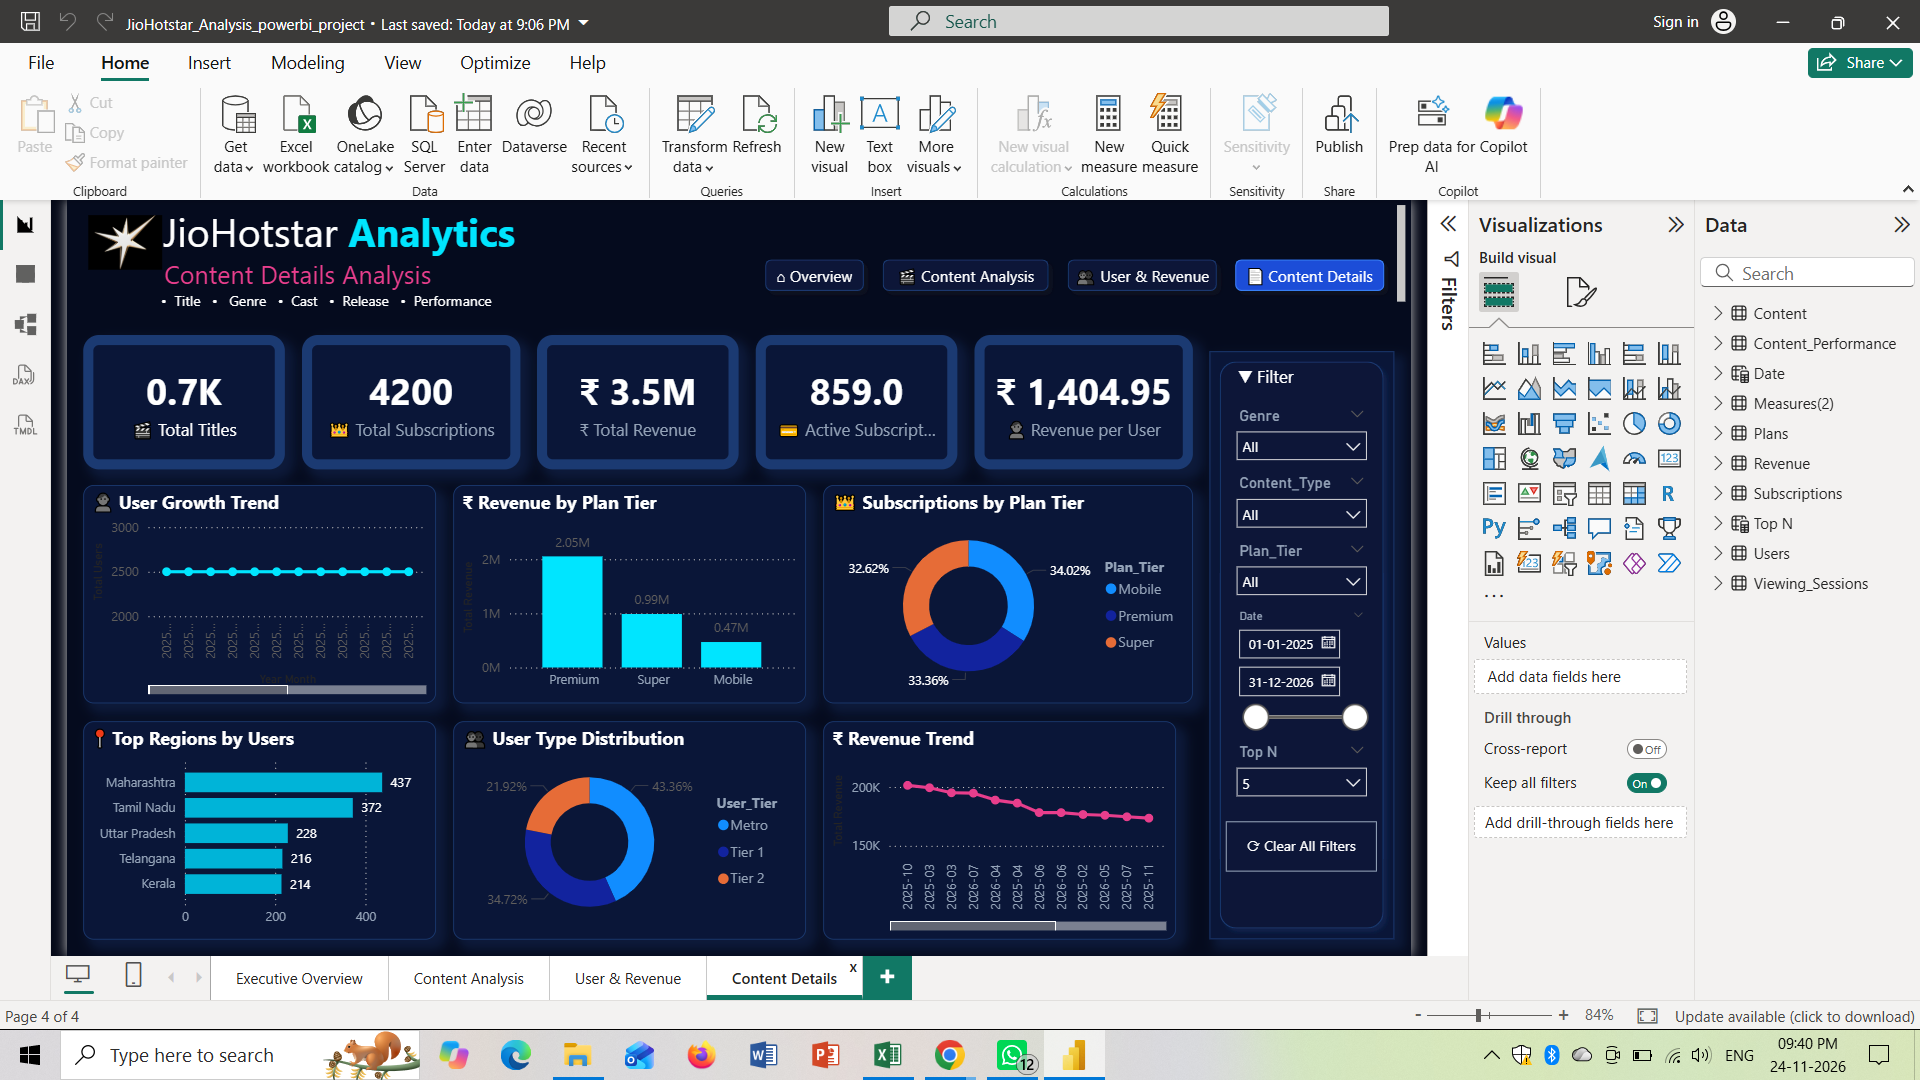

The dashboard page shown, as its layout file describes it:
{"tool":"powerbi","page":{"name":"Content Details","canvas":[1280,720],"ordinal":3},"visuals":[{"type":"shape","box":[1088,144,176,560],"z":0},{"type":"card","fields":{"Values":["Content.Total Titles"]},"box":[16,128,192,128],"z":1000},{"type":"card","fields":{"Values":["Measures(2).Total Subscriptions"]},"box":[224,128,208,128],"z":2000},{"type":"card","fields":{"Values":["Measures(2).Total Revenue"]},"box":[448,128,192,128],"z":3000},{"type":"card","fields":{"Values":["Measures(2).Active Subscriptions"]},"box":[656,128,192,128],"z":4000},{"type":"textbox","box":[16,0,1264,128],"z":5000},{"type":"image","box":[16,0,80,80],"z":6000},{"type":"textbox","box":[1104,144,144,48],"z":7000},{"type":"slicer","fields":{"Values":["Content.Genre"]},"box":[1104,192,144,64],"z":8000},{"type":"slicer","fields":{"Values":["Content.Content_Type"]},"box":[1104,256,144,80],"z":9000},{"type":"slicer","fields":{"Values":["Plans.Plan_Tier"]},"box":[1104,320,144,64],"z":10000},{"type":"slicer","fields":{"Values":["Date.Date"]},"box":[1104,384,144,128],"z":11000},{"type":"lineChart","title":"👤 User Growth Trend","fields":{"Category":["Date.Year Month"],"Y":["Measures(2).Total Users"]},"box":[16,272,336,208],"z":12000},{"type":"clusteredColumnChart","title":"₹ Revenue by Plan Tier","fields":{"Category":["Plans.Plan_Tier"],"Y":["Measures(2).Total Revenue"]},"box":[368,272,336,208],"z":13000},{"type":"actionButton","box":[656,48,112,48],"z":14000},{"type":"actionButton","box":[768,48,176,48],"z":15000},{"type":"actionButton","box":[944,48,160,48],"z":16000},{"type":"actionButton","box":[1104,48,160,48],"z":17000},{"type":"card","fields":{"Values":["Measures(2).ARPU"]},"box":[864,128,208,128],"z":18000},{"type":"donutChart","title":"👑 Subscriptions by Plan Tier","fields":{"Y":["Measures(2).Total Subscriptions"],"Category":["Plans.Plan_Tier"]},"box":[720,272,352,208],"z":19000},{"type":"clusteredBarChart","title":"📍 Top Regions by Users","fields":{"Category":["Users.State"],"Y":["Measures(2).Total Users"]},"box":[16,496,336,208],"z":20000},{"type":"donutChart","title":"👥 User Type Distribution","fields":{"Category":["Users.User_Tier"],"Y":["Measures(2).Total Users"]},"box":[368,496,336,208],"z":21000},{"type":"lineChart","title":"₹ Revenue Trend","fields":{"Category":["Date.Year Month"],"Y":["Measures(2).Total Revenue"]},"box":[720,496,336,208],"z":22000},{"type":"slicer","fields":{"Values":["Top N.Top N"]},"box":[1104,512,144,80],"z":23000},{"type":"actionButton","title":"⟳ Clear All Filters","box":[1104,592,144,48],"z":24000}]}

Visuals, with their boxes on the page's 1280x720 design canvas (x1, y1, x2, y2). These are canvas units, not pixel positions in the 1920x1080 screenshot, which may show the page scaled, cropped or inside an application window:
shape: rect(1088, 144, 1264, 704)
card - Content.Total Titles: rect(16, 128, 208, 256)
card - Measures(2).Total Subscriptions: rect(224, 128, 432, 256)
card - Measures(2).Total Revenue: rect(448, 128, 640, 256)
card - Measures(2).Active Subscriptions: rect(656, 128, 848, 256)
textbox: rect(16, 0, 1280, 128)
image: rect(16, 0, 96, 80)
textbox: rect(1104, 144, 1248, 192)
slicer - Content.Genre: rect(1104, 192, 1248, 256)
slicer - Content.Content_Type: rect(1104, 256, 1248, 336)
slicer - Plans.Plan_Tier: rect(1104, 320, 1248, 384)
slicer - Date.Date: rect(1104, 384, 1248, 512)
"👤 User Growth Trend" lineChart: rect(16, 272, 352, 480)
"₹ Revenue by Plan Tier" clusteredColumnChart: rect(368, 272, 704, 480)
actionButton: rect(656, 48, 768, 96)
actionButton: rect(768, 48, 944, 96)
actionButton: rect(944, 48, 1104, 96)
actionButton: rect(1104, 48, 1264, 96)
card - Measures(2).ARPU: rect(864, 128, 1072, 256)
"👑 Subscriptions by Plan Tier" donutChart: rect(720, 272, 1072, 480)
"📍 Top Regions by Users" clusteredBarChart: rect(16, 496, 352, 704)
"👥 User Type Distribution" donutChart: rect(368, 496, 704, 704)
"₹ Revenue Trend" lineChart: rect(720, 496, 1056, 704)
slicer - Top N.Top N: rect(1104, 512, 1248, 592)
"⟳ Clear All Filters" actionButton: rect(1104, 592, 1248, 640)
